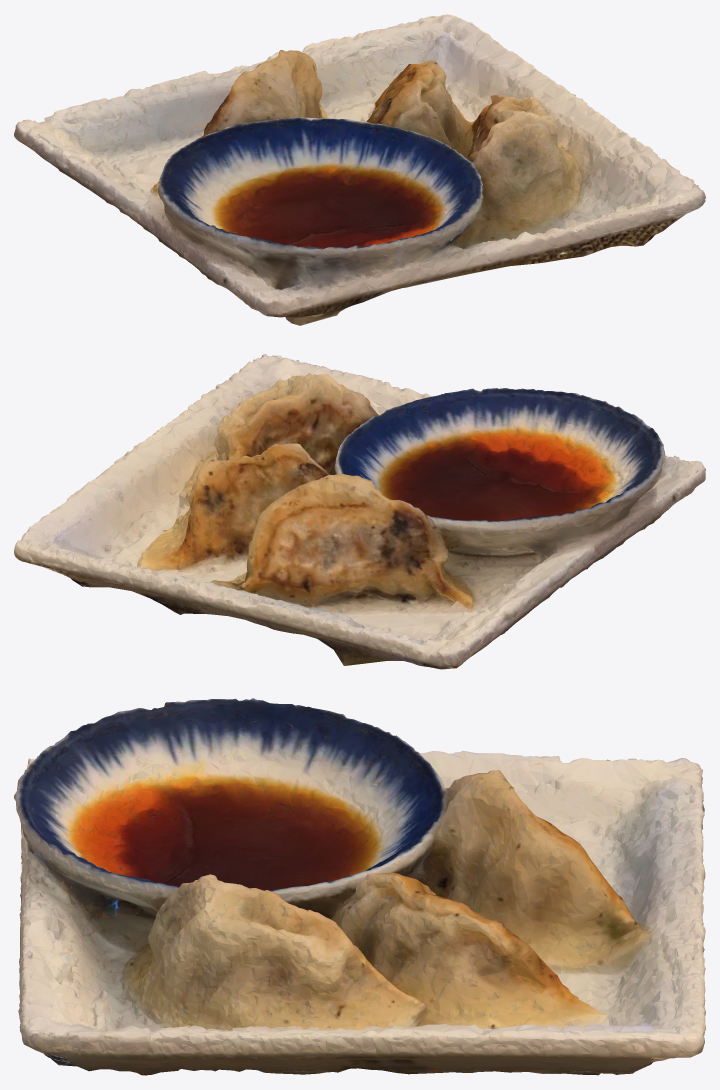
The model's file is gyozas.glb.
3 views of the same model, one above another, from view 1: azimuth 30°, elevation 25°; view 2: azimuth 150°, elevation 25°; view 3: azimuth 270°, elevation 25° (orthographic). The views are drawn at different scales.
Visible parts, largest first — view 1: model_tex_u1_v1_0; view 2: model_tex_u1_v1_0; view 3: model_tex_u1_v1_0.
Part boxes in pixels (x1=…): model_tex_u1_v1_0: x1=14, y1=14, x2=705, y2=325; model_tex_u1_v1_0: x1=14, y1=354, x2=705, y2=669; model_tex_u1_v1_0: x1=14, y1=698, x2=705, y2=1075.
Size of the model in its own units: 0.1504 by 0.0369 by 0.1494.
Materials: 1 (1 with a texture image).
